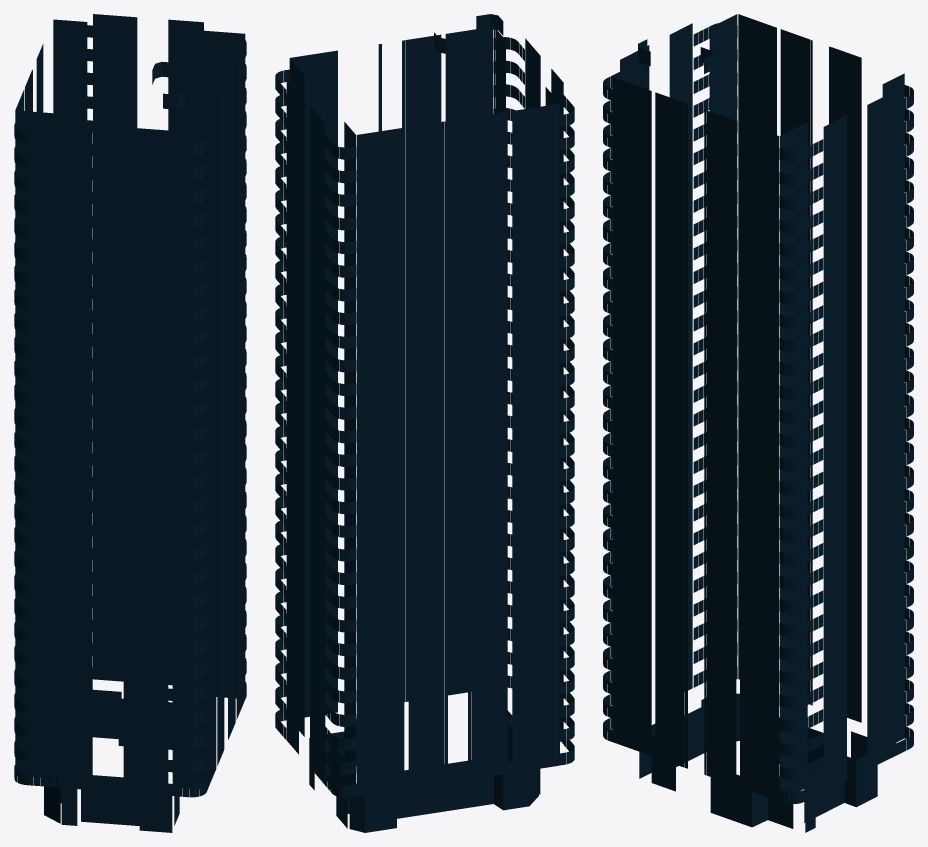
Rendered from Glass.fbx.
3 renders of one model, left to right at view 1: azimuth 30°, elevation 25°; view 2: azimuth 150°, elevation 25°; view 3: azimuth 270°, elevation 25°, orthographic.
Visible parts, largest first — view 1: AssanaGlass; view 2: AssanaGlass; view 3: AssanaGlass.
Boxes of the visible parts, x1,y1,x2,y2 form: AssanaGlass: (14, 14, 246, 832); AssanaGlass: (275, 14, 574, 832); AssanaGlass: (603, 14, 913, 832).
Size of the model in its own units: 358 by 962 by 368.
